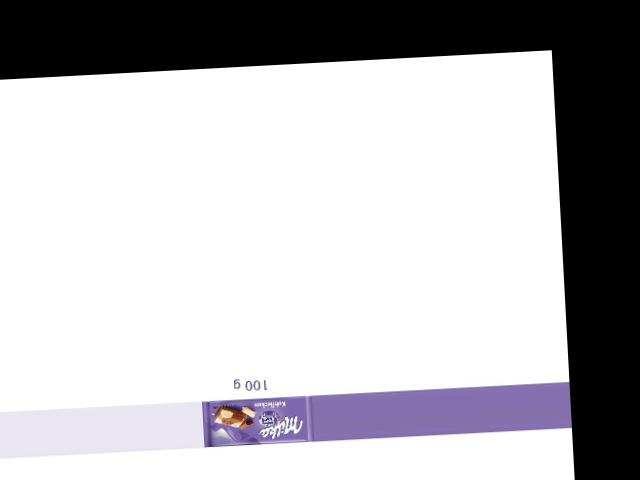chocolate: (201, 393, 314, 447)
